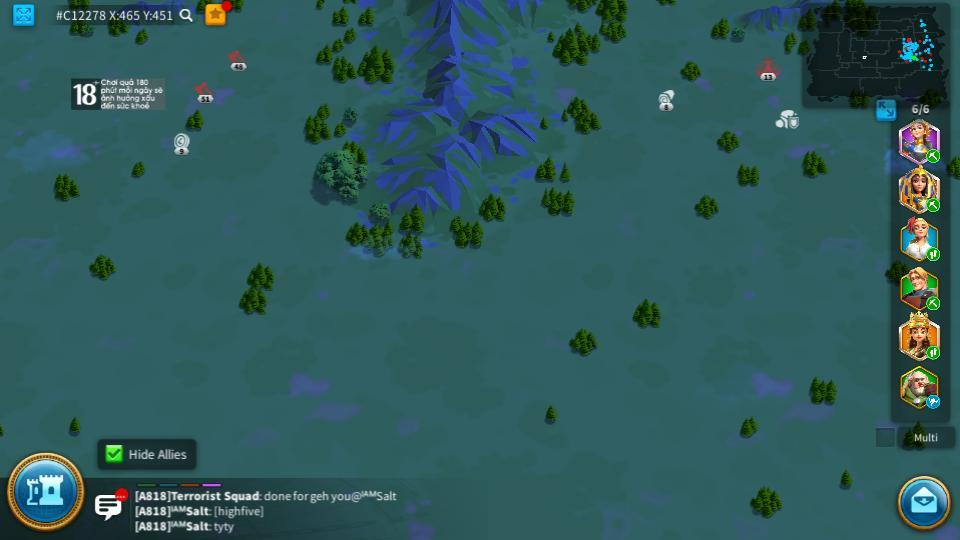march_farming: (925, 197, 941, 212), (925, 150, 941, 162), (925, 297, 942, 308)
march_idle: (925, 396, 942, 408)
march_marching: (925, 347, 941, 359), (929, 248, 938, 260)
